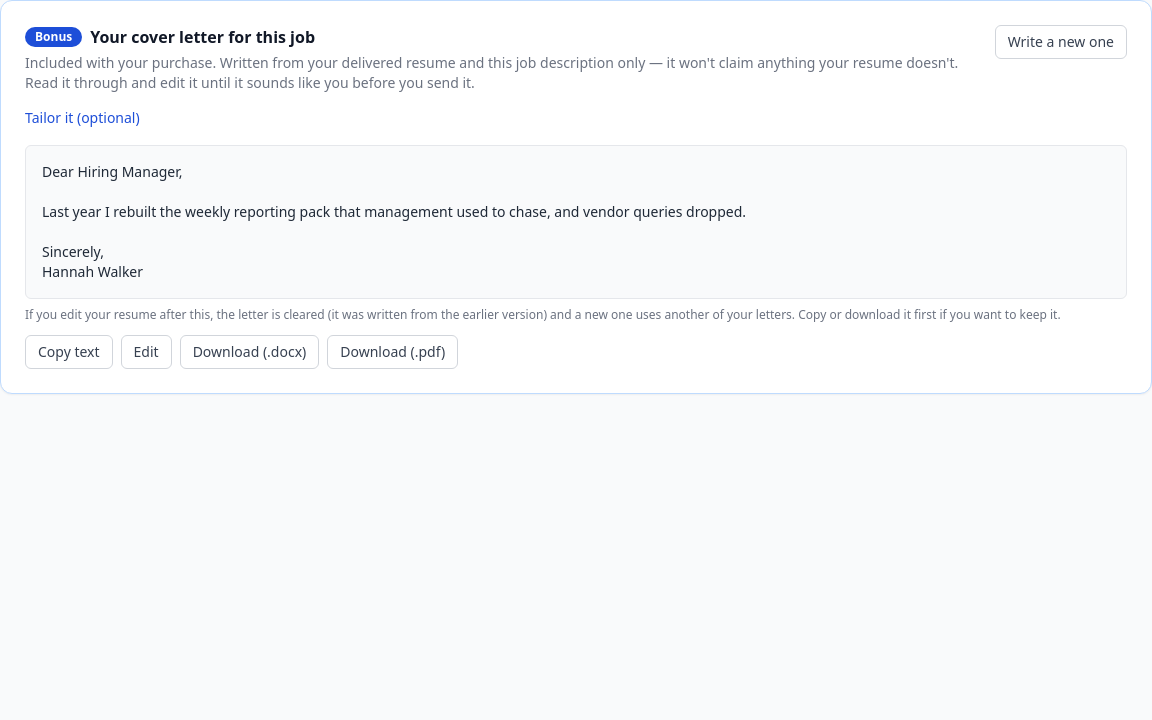
Test: CoverLetterPanel — the person can edit the letter, and a new one never silently replaces their edits › Cancel leaves the saved letter alone and sends nothing
Click the button "Edit": (146, 352) [121,335,172,369]
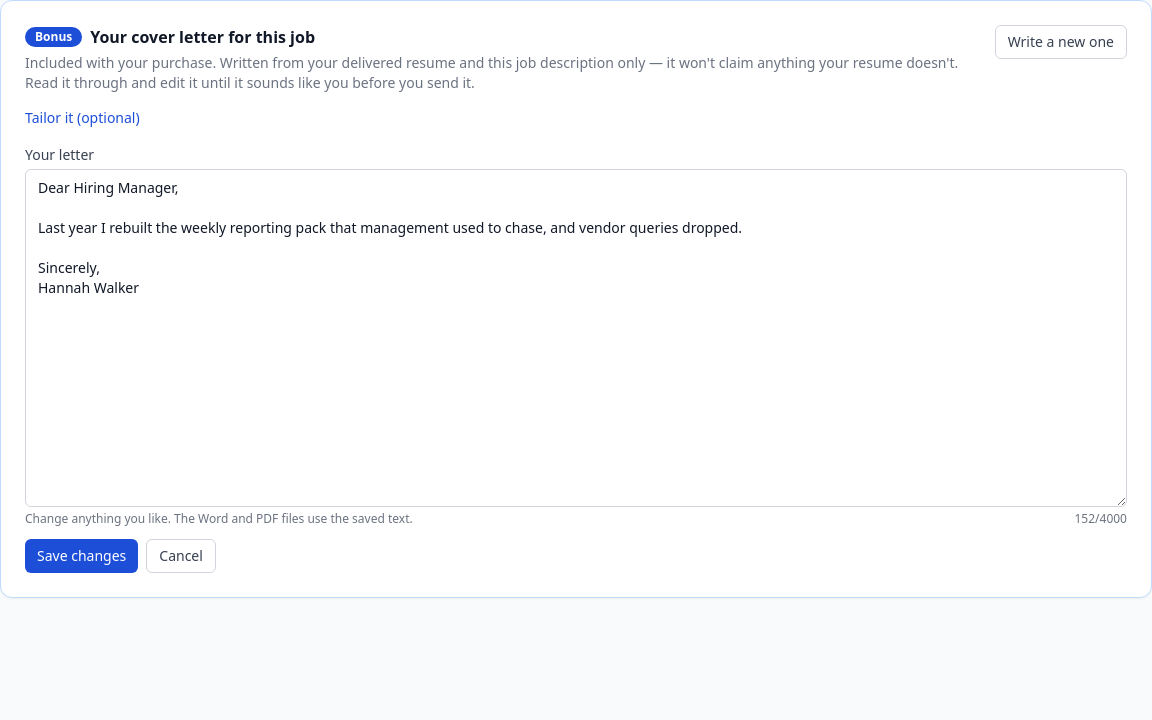
In the text box labelled "Your letter": (576, 338) [25,169,1127,507], type " xyz"
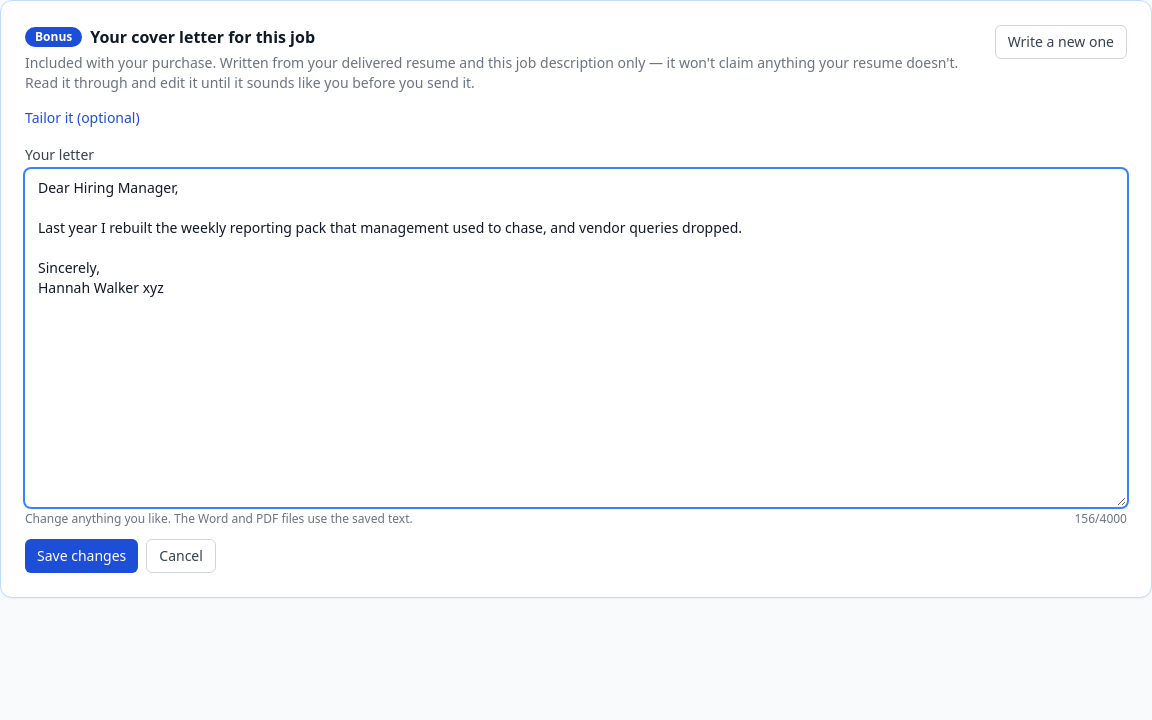
Click the button "Cancel": (181, 556) [146,539,216,573]
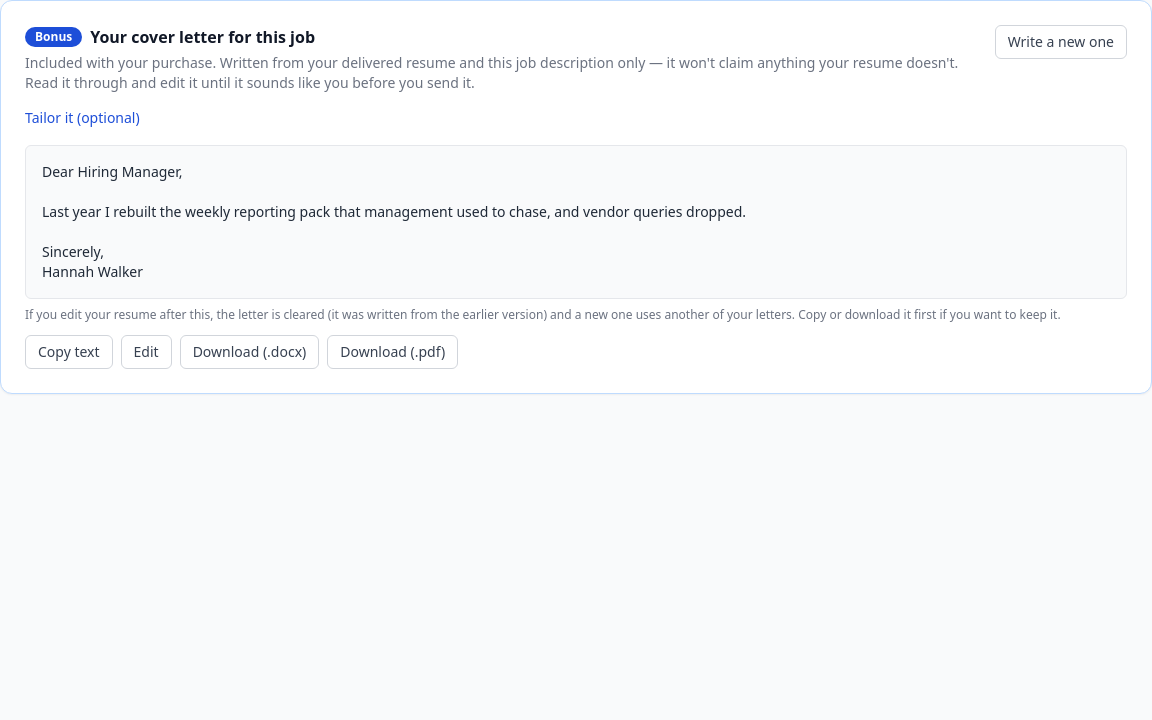
Result: the text "Last year I rebuilt" is shown at [42,162,746,281]
